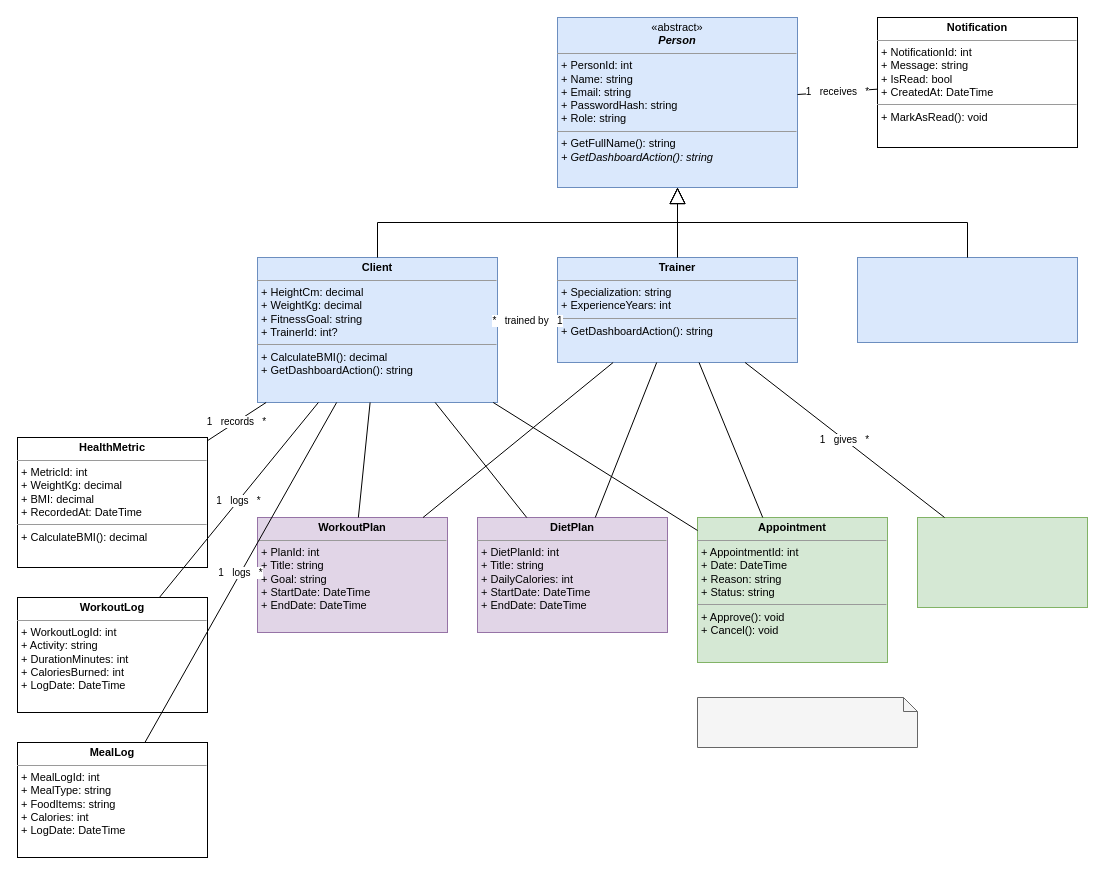
This 1105x875 diagram has some shape labels left out. Each missing label, with the centre of its shape:
Admin + AccessLevel: int + GetDashboardAction(): string: the point at 967,299
Client 1 — * and Trainer 1 — * with WorkoutPlan, DietPlan and Appointment.: the point at 807,722
Feedback + FeedbackId: int + Comment: string + Rating: int: the point at 1002,562
